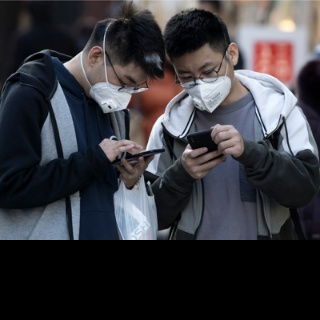with_mask: (176, 58, 235, 106), (89, 69, 140, 115)
